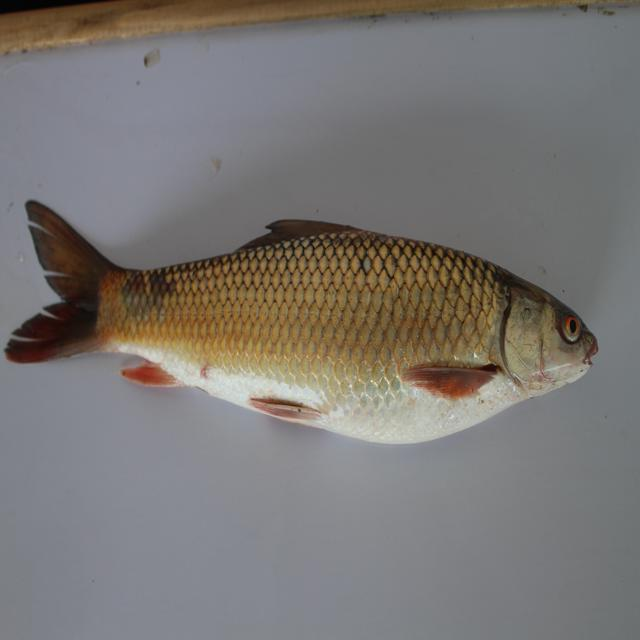Mori: (12, 187, 618, 457)
